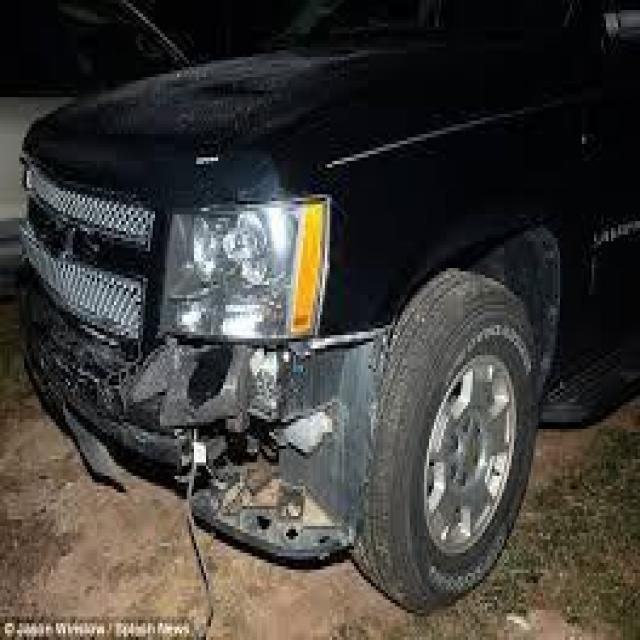damaged: (24, 272, 383, 566)
